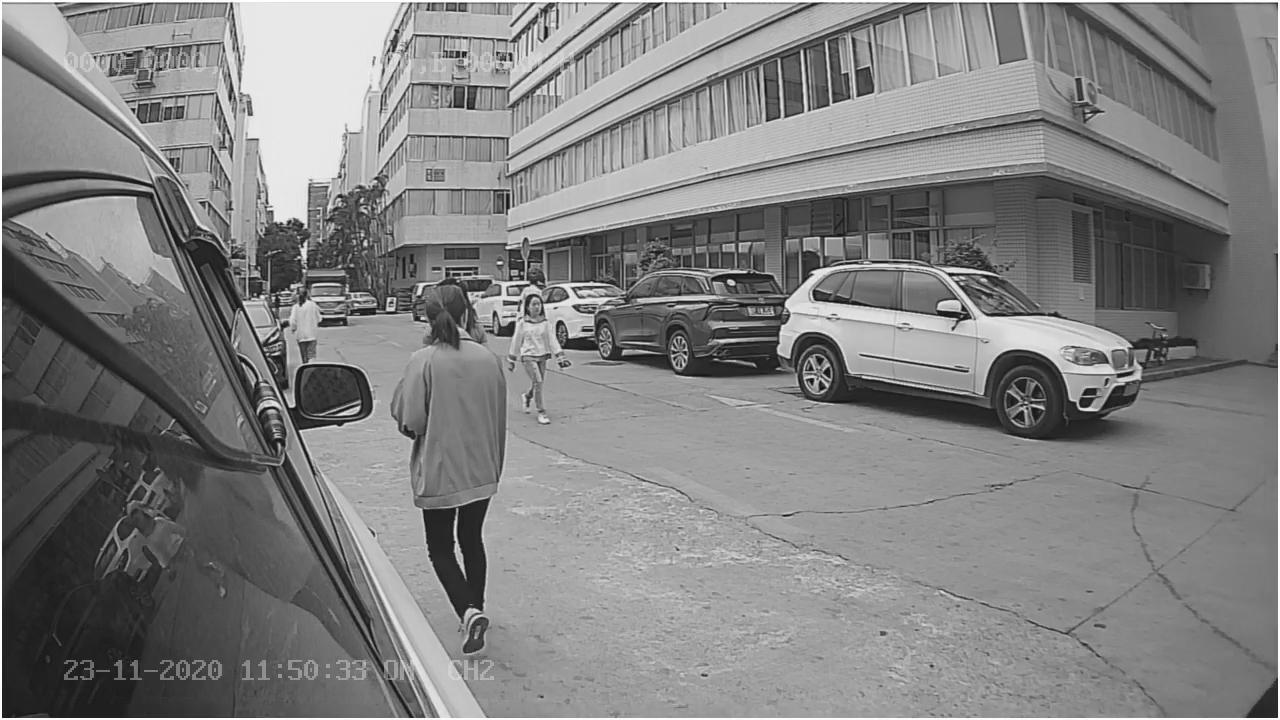person: (393, 282, 511, 461)
